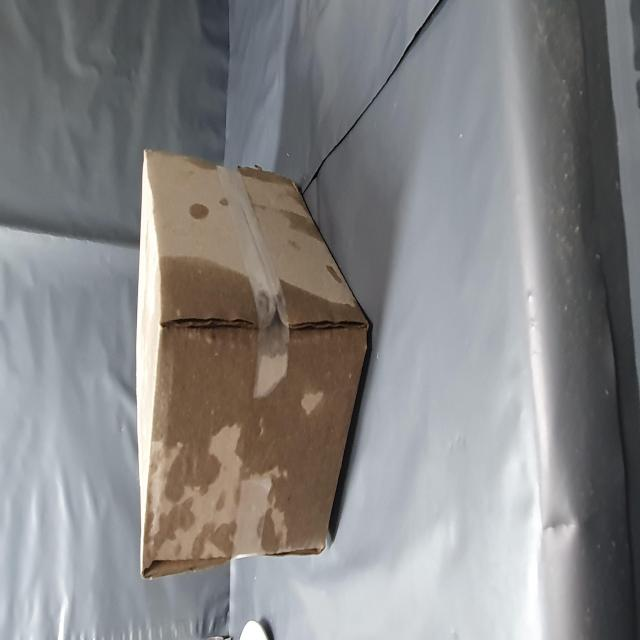wet: (39, 244, 210, 640)
